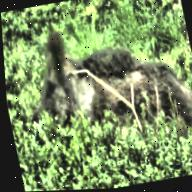boar: (13, 0, 192, 167)
